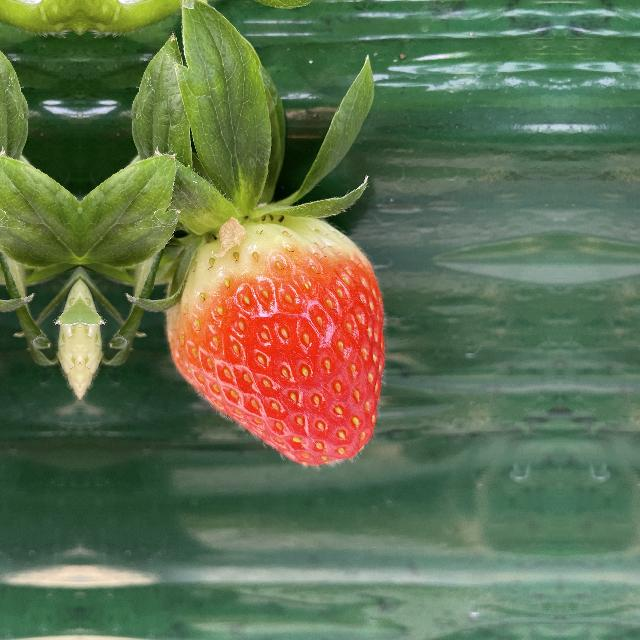Health_100: (164, 198, 393, 472)
